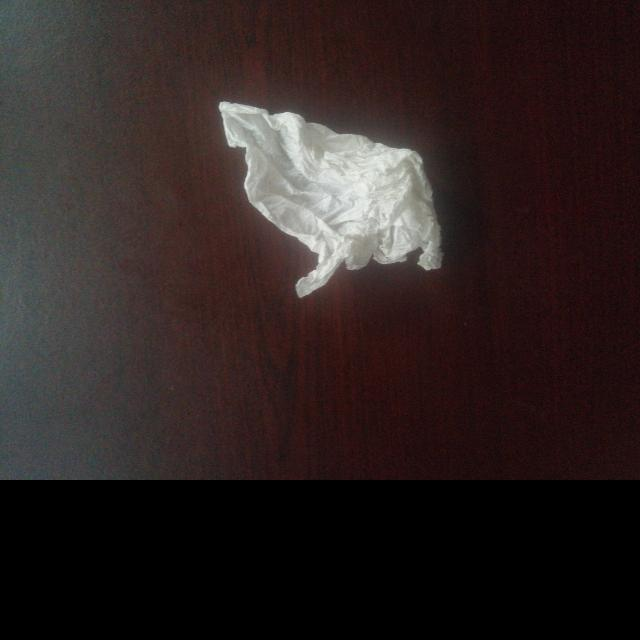kitchen paper: (217, 98, 448, 300)
